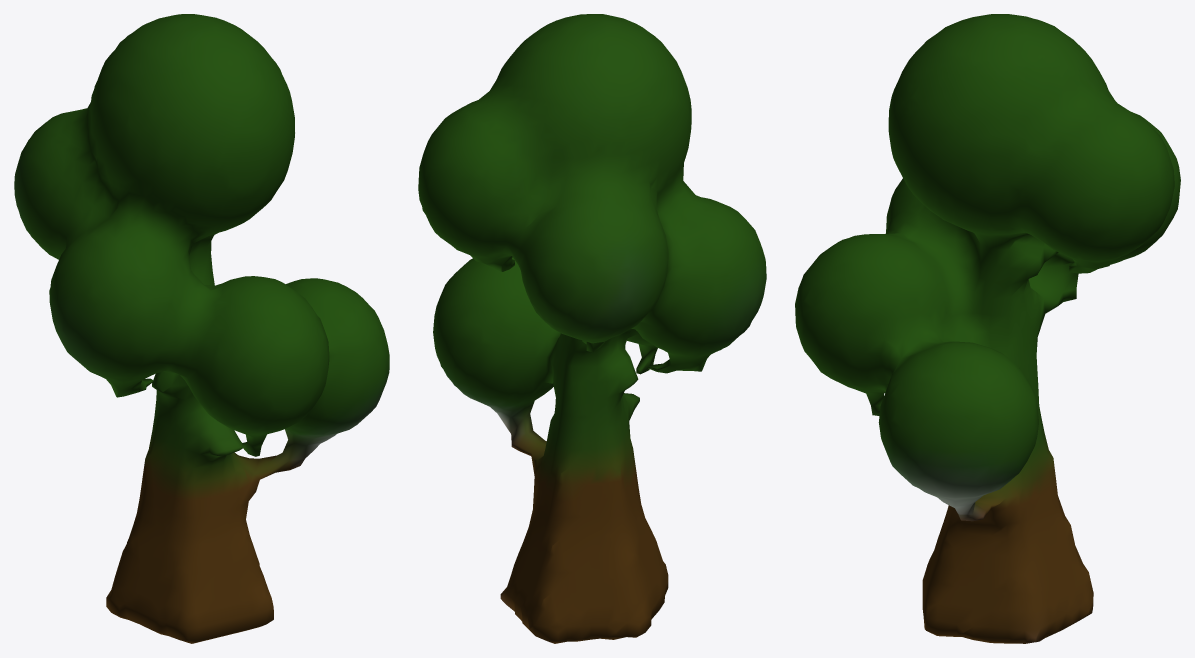
File: Bubbled_5.glb
The picture shows the model from 3 angles, left to right: view 1: azimuth 30°, elevation 25°; view 2: azimuth 150°, elevation 25°; view 3: azimuth 270°, elevation 25°; orthographic projection.
Parts seen in each view (by area): view 1: Bubbled_5; view 2: Bubbled_5; view 3: Bubbled_5.
Part boxes in pixels (x1,y1,x2,y2): Bubbled_5: (14, 14, 389, 643); Bubbled_5: (418, 14, 766, 643); Bubbled_5: (795, 14, 1180, 643).
Size of the model in its own units: 2.29 by 4.13 by 2.42.
